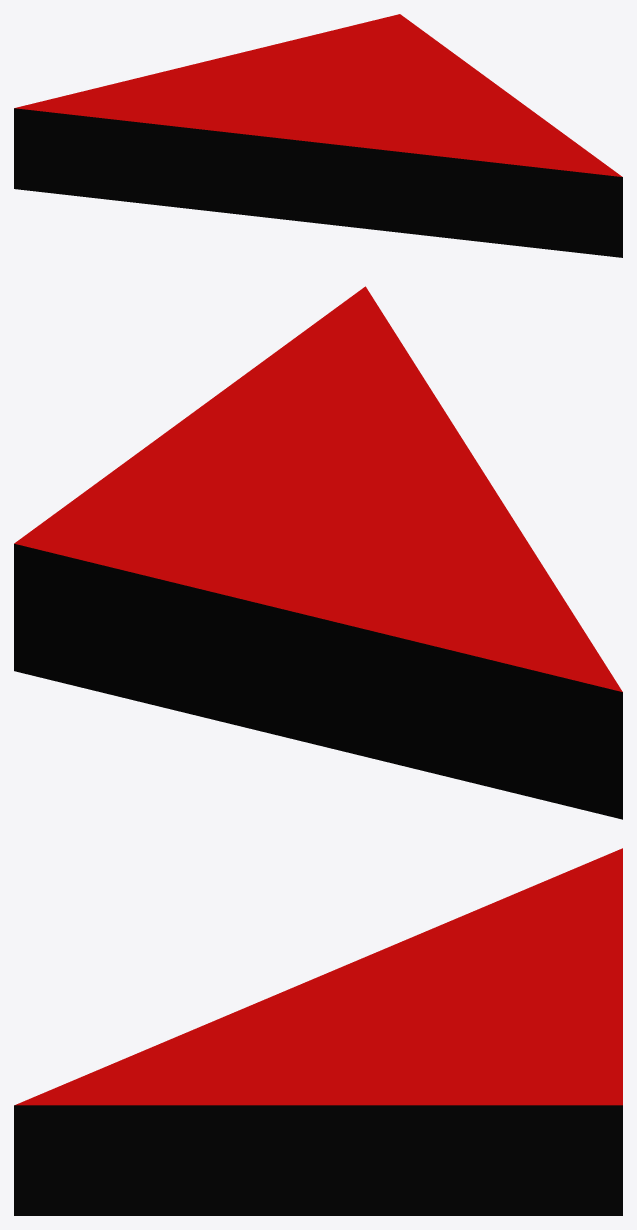
Rendered from PlatformFlatDiagonal.fbx.
3 views of the same model, one above another, from view 1: azimuth 30°, elevation 25°; view 2: azimuth 150°, elevation 25°; view 3: azimuth 270°, elevation 25° (orthographic). The views are drawn at different scales.
Visible parts, largest first — view 1: PlatformFlatDiagonal; view 2: PlatformFlatDiagonal; view 3: PlatformFlatDiagonal.
Part boxes in pixels (box(x1,y1,x2,y2)): PlatformFlatDiagonal: box(14, 14, 622, 257); PlatformFlatDiagonal: box(14, 286, 622, 819); PlatformFlatDiagonal: box(14, 848, 622, 1215).
Bounding box in the file's own units: 5 × 1 × 5.
